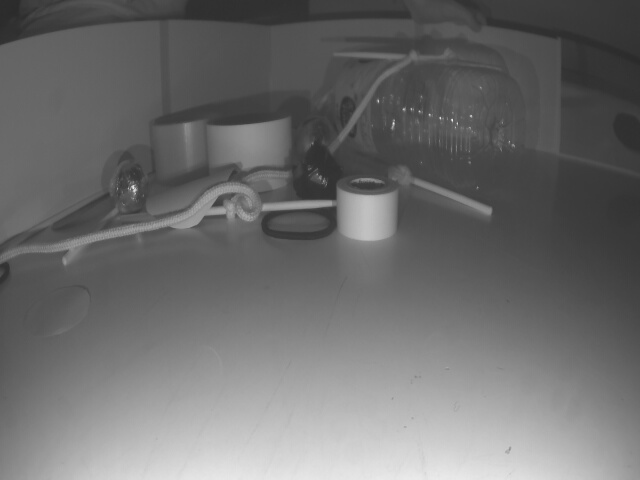Dead: (295, 147, 348, 212)
Live: (296, 117, 340, 163), (109, 160, 145, 211)
